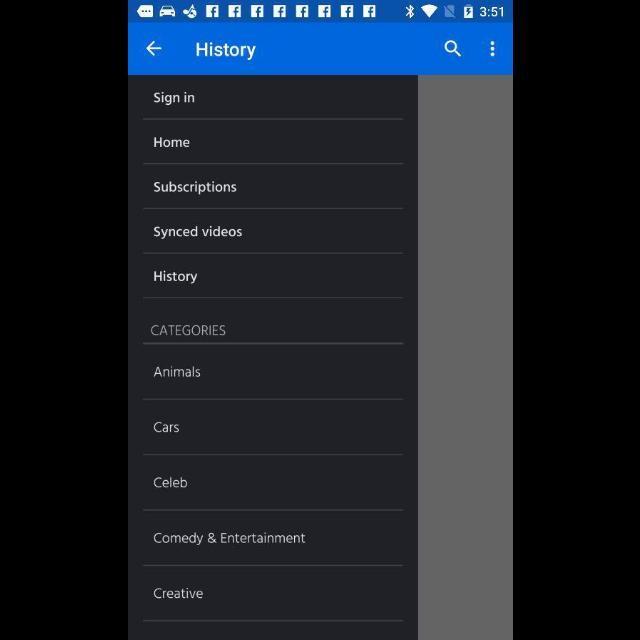icon: (444, 41, 461, 58), (145, 41, 161, 57), (489, 42, 495, 58)
panel: (128, 76, 418, 638)
text: (153, 532, 304, 546), (154, 181, 236, 195), (154, 227, 242, 240), (196, 42, 254, 60), (150, 325, 226, 337), (154, 271, 196, 285), (154, 587, 202, 599), (154, 92, 194, 106), (153, 367, 200, 378), (154, 477, 186, 488), (154, 138, 188, 148), (153, 422, 179, 432)
toolbar: (128, 23, 512, 75)
uppertaskbar: (128, 1, 512, 23)
